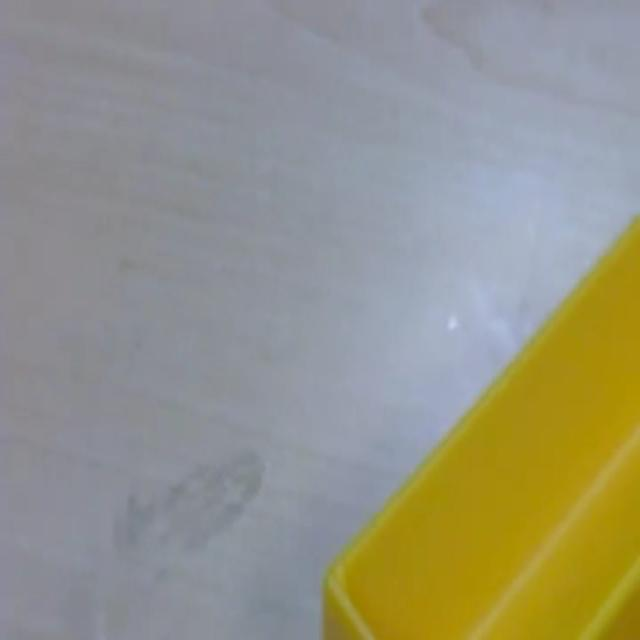yellow_block: (321, 212, 638, 637)
